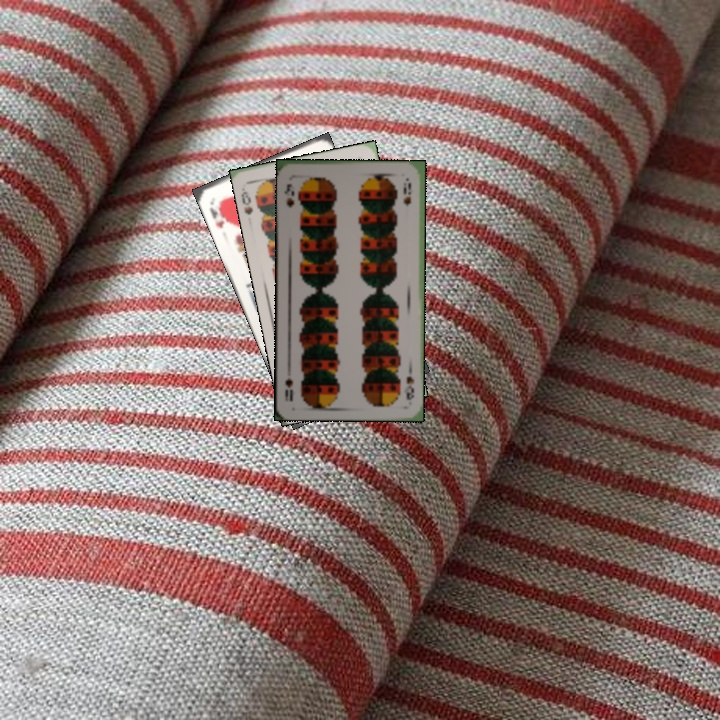HK: (206, 196, 230, 231)
S8: (400, 364, 416, 402), (237, 184, 255, 217), (280, 180, 297, 210)
